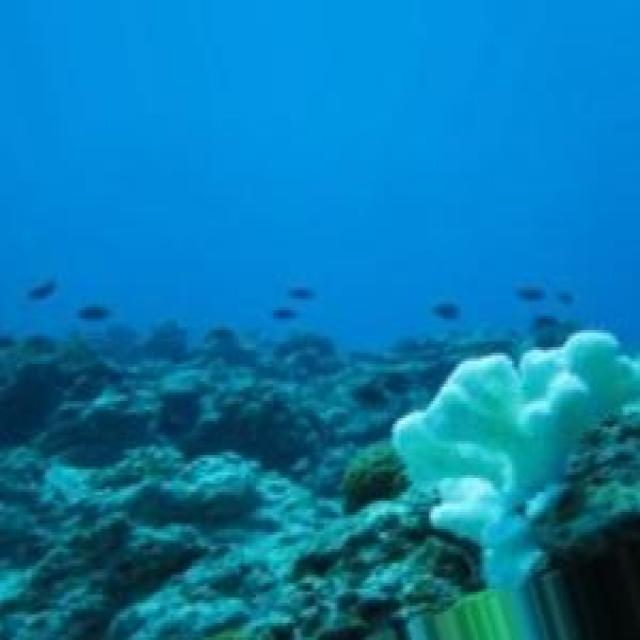Bleached: (395, 333, 640, 586)
